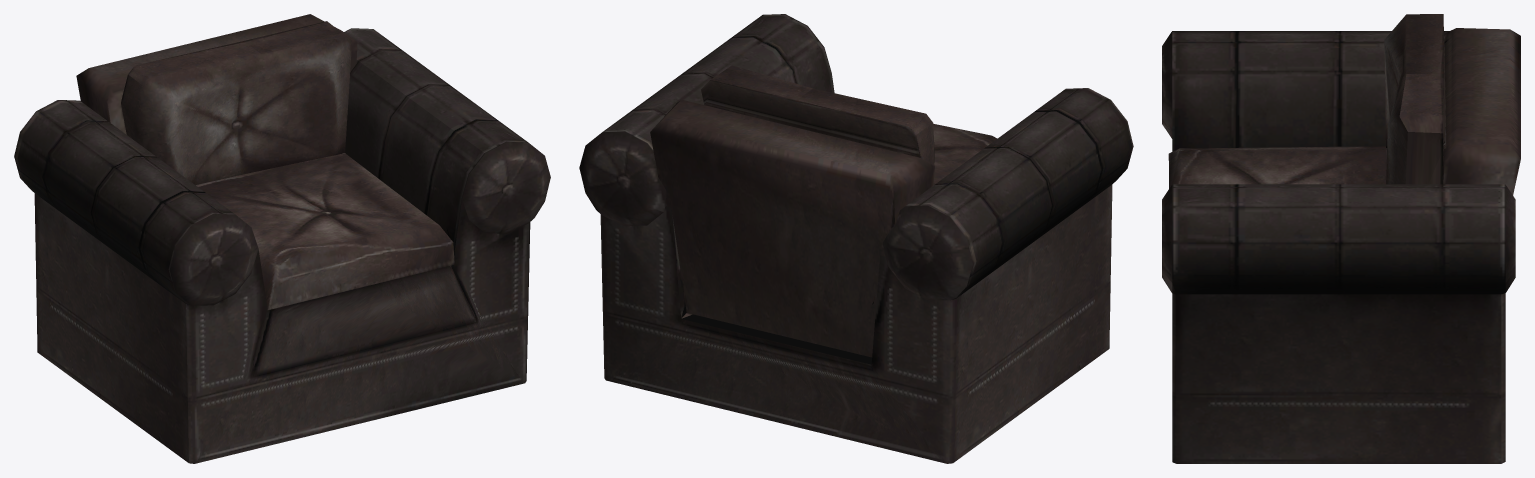
The model's file is small sofa.obj.
3 renders of one model, left to right at view 1: azimuth 30°, elevation 25°; view 2: azimuth 150°, elevation 25°; view 3: azimuth 270°, elevation 25°, orthographic. The views are drawn at different scales.
Visible parts, largest first — view 1: OBJ_Chair_Sofa_Armchair; view 2: OBJ_Chair_Sofa_Armchair; view 3: OBJ_Chair_Sofa_Armchair.
Boxes of the visible parts, bbox=[...] form: OBJ_Chair_Sofa_Armchair: bbox=[14, 14, 550, 463]; OBJ_Chair_Sofa_Armchair: bbox=[579, 14, 1133, 463]; OBJ_Chair_Sofa_Armchair: bbox=[1162, 14, 1520, 463].
Size of the model in its own units: 183 by 133 by 140.
